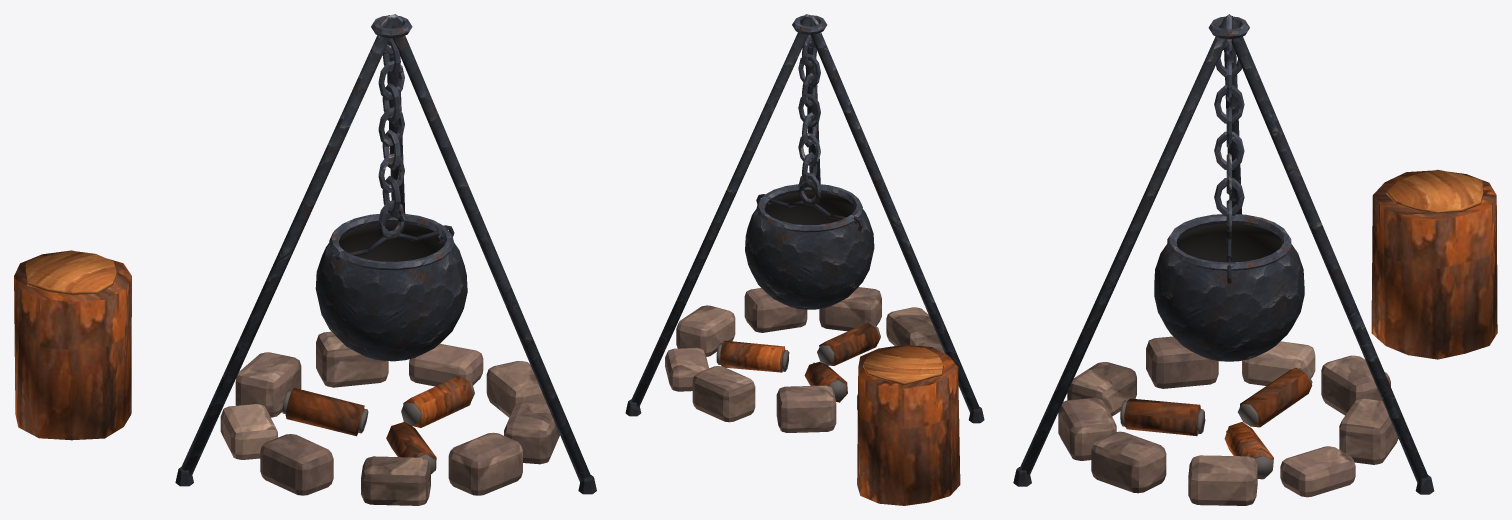
File: mg_cookpot_tripod.glb
3 views of the same model, side by side, from view 1: azimuth 30°, elevation 25°; view 2: azimuth 150°, elevation 25°; view 3: azimuth 270°, elevation 25° (orthographic). The views are drawn at different scales.
Visible parts, largest first — view 1: model; view 2: model; view 3: model.
Part boxes in pixels (box(x1,y1,x2,y2)): model: box(14, 14, 596, 505); model: box(625, 14, 984, 505); model: box(1013, 14, 1497, 505).
Size of the model in its own units: 1.2 by 1.16 by 1.21.
11 materials, 9 textured.
